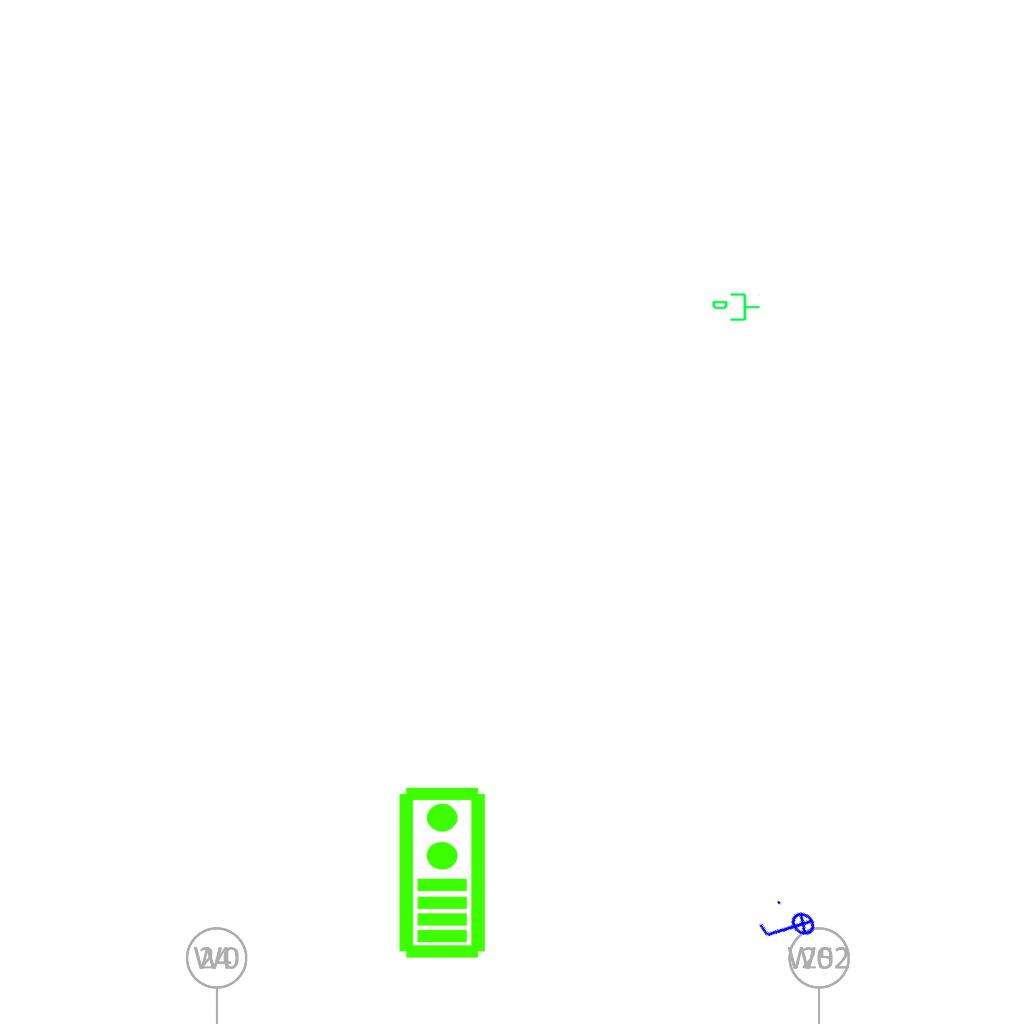Ausschalter_beleuchtet: (751, 891, 825, 965)
Datenanschluss_einfach: (711, 291, 761, 325)
Gegensprechanlage_mit_Video: (393, 784, 488, 960)
